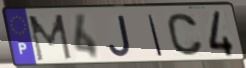4: (72, 12, 102, 63), (207, 9, 237, 58)
C: (165, 12, 205, 58)
I: (146, 13, 164, 58)
J: (107, 14, 133, 59)
M: (27, 13, 75, 64)
